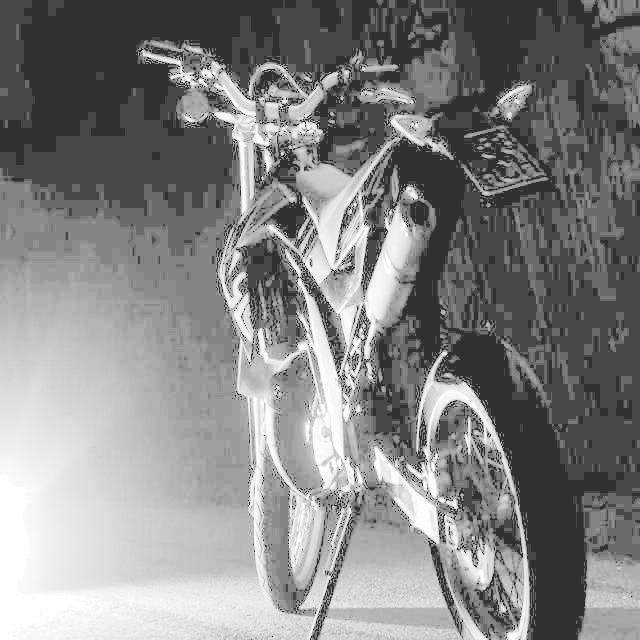Motorcycle: (136, 16, 584, 635)
